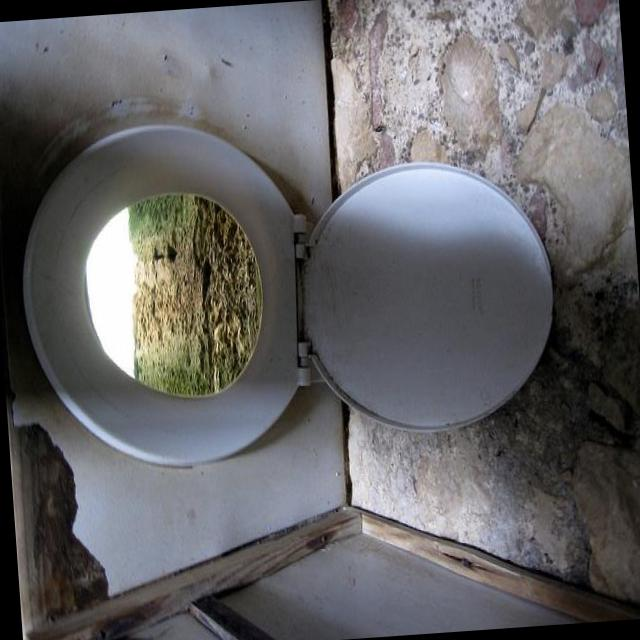toilet: (1, 91, 560, 482)
